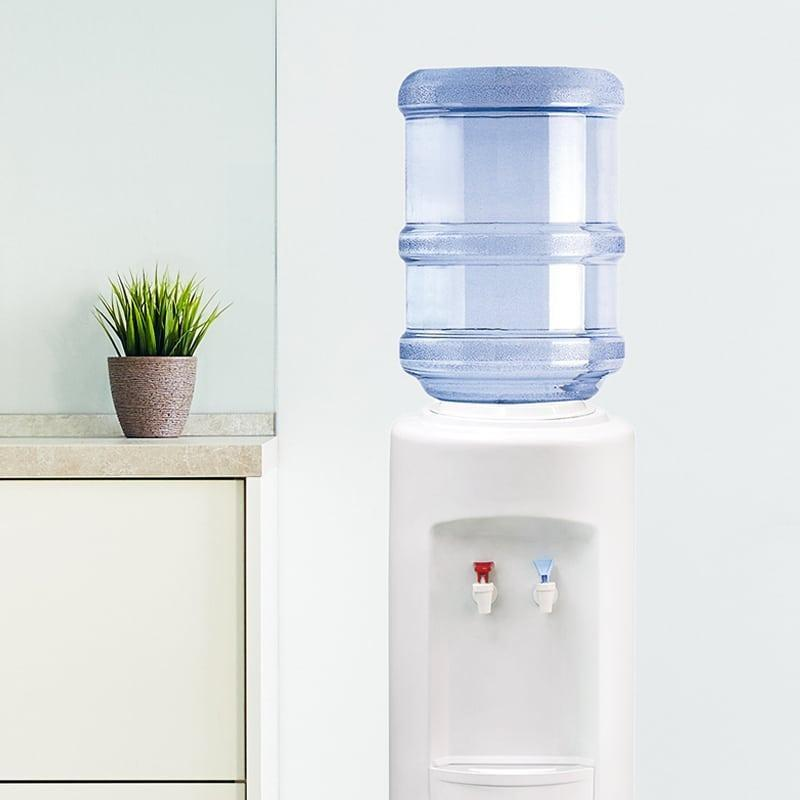Dispenser: (386, 65, 636, 799)
